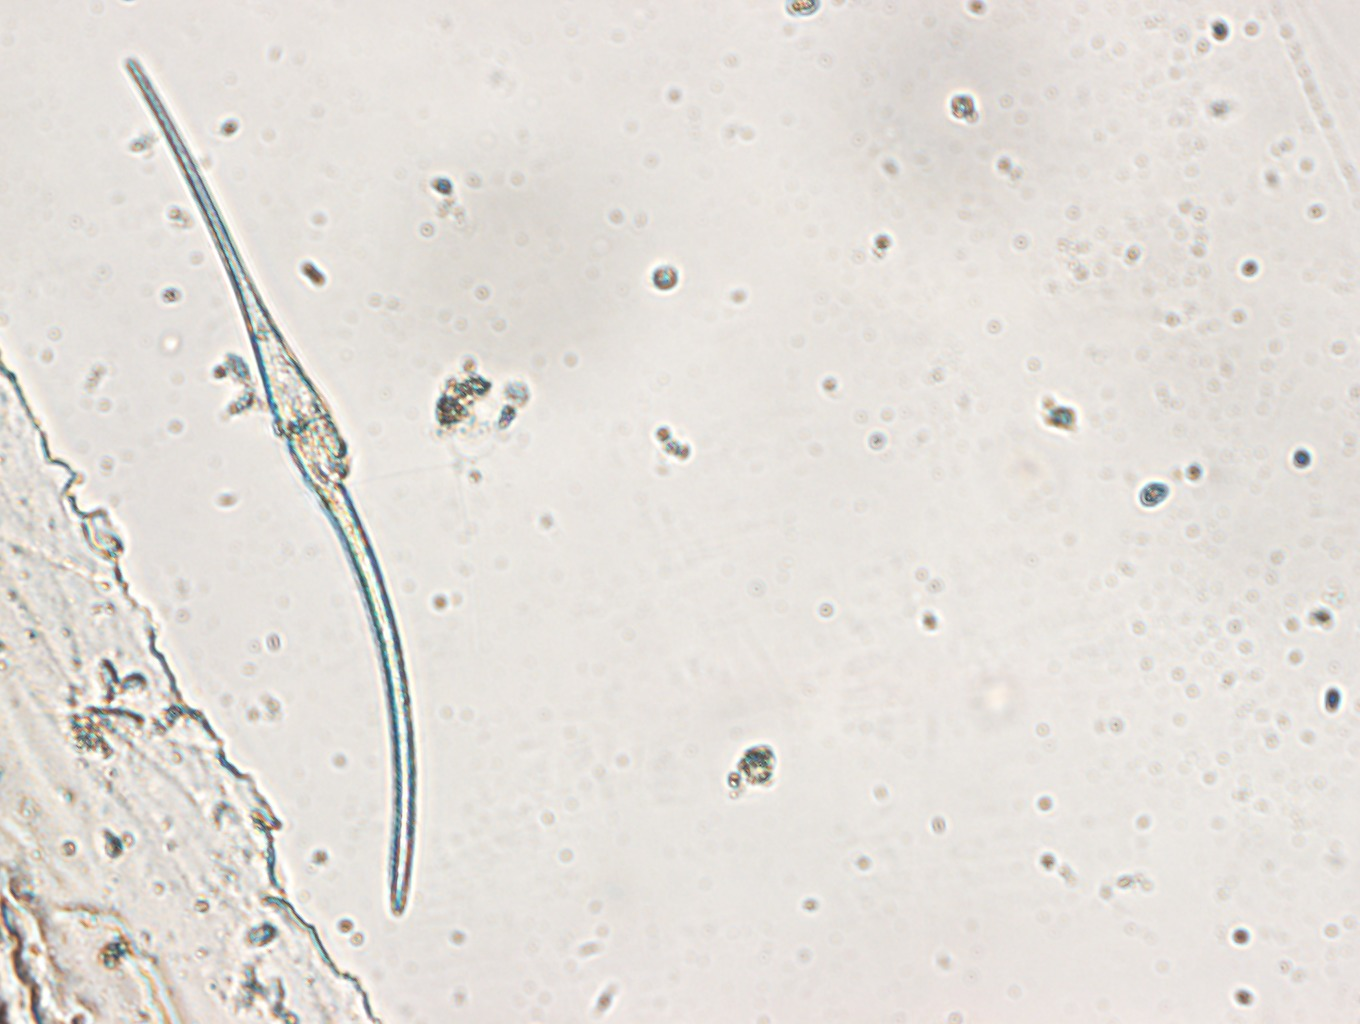ceratium fusus: (121, 55, 419, 920)
